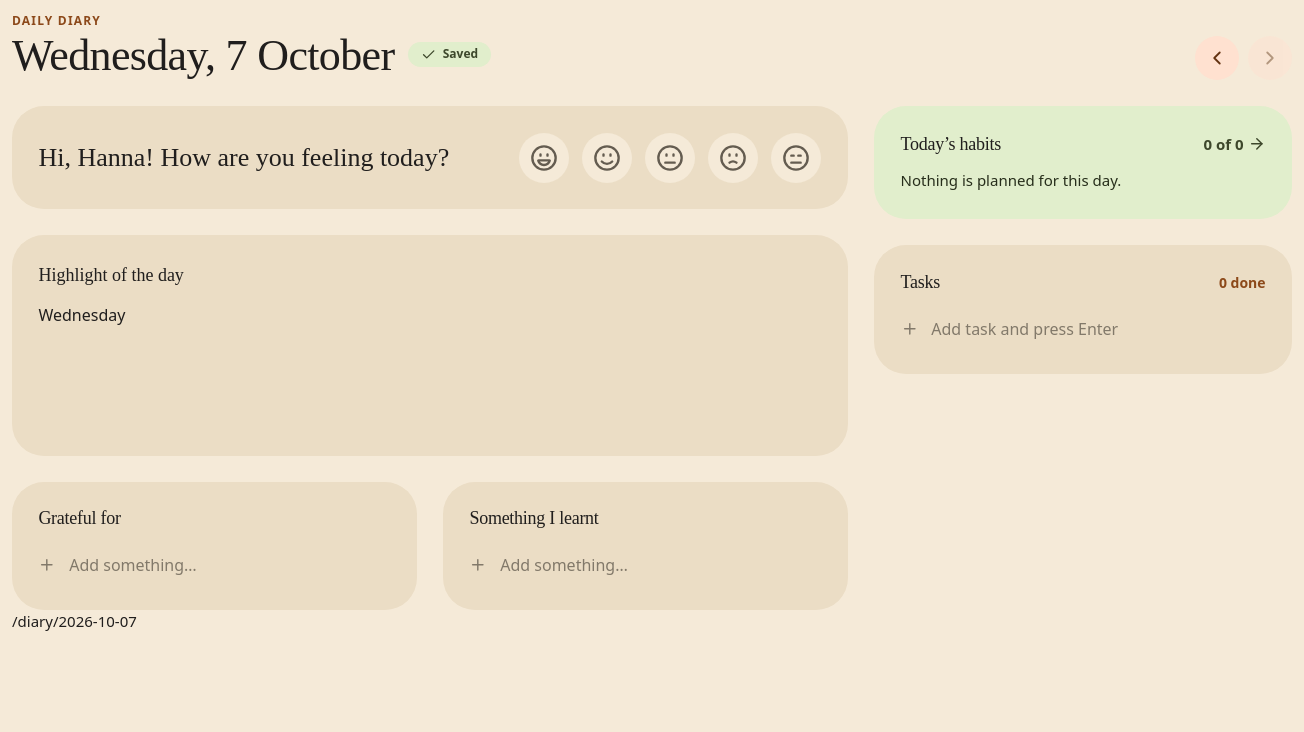
Test: moving between days › shows each day’s own text when going back and forth between days that are loaded already
The width and height of the screenshot is (1304, 732).
Expected: the text box labelled "Highlight of the day" holds "Wednesday", [38,303,821,423]
Click the button named "Previous day" at (1217, 58), box [1195,36,1239,80]
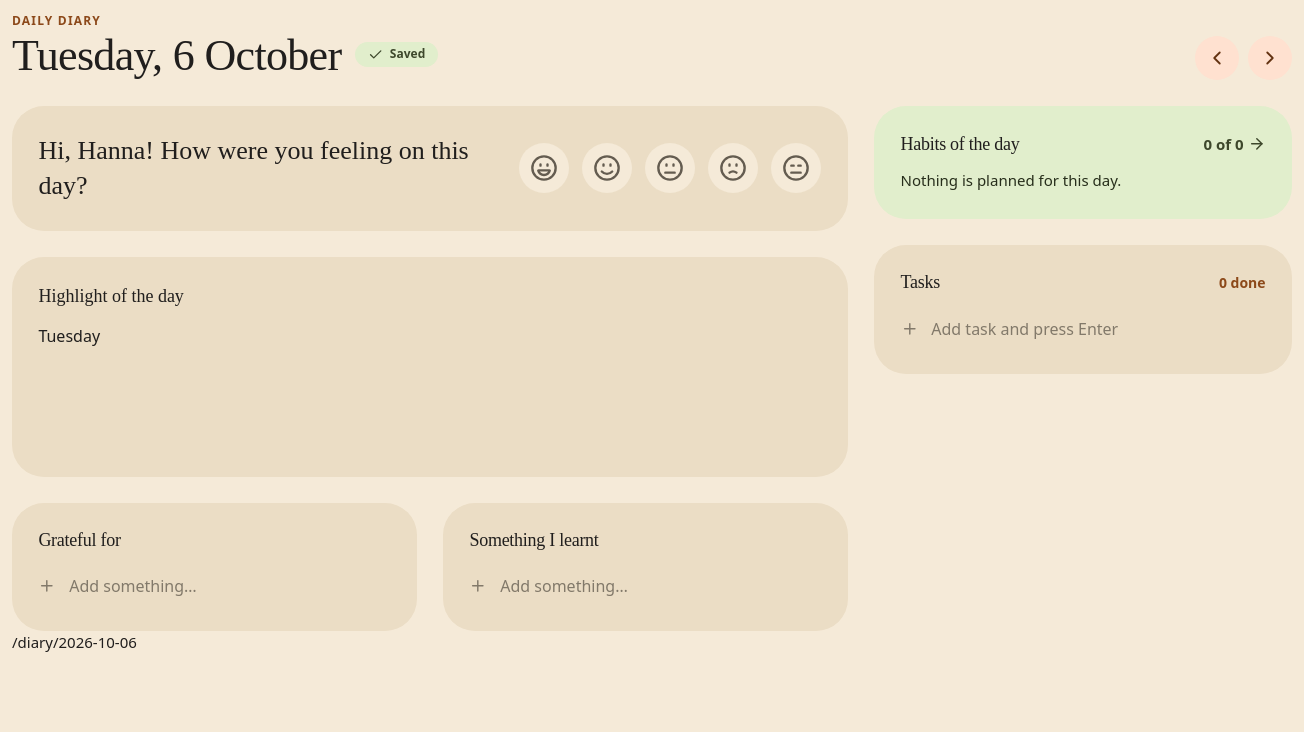
Expected: the text box labelled "Highlight of the day" holds "Tuesday", [38,324,821,444]
Note: Wednesday is in the cache now: its form opens at once, and must not be Tuesday's.
Click the button named "Next day" at (1270, 58), box [1248,36,1292,80]
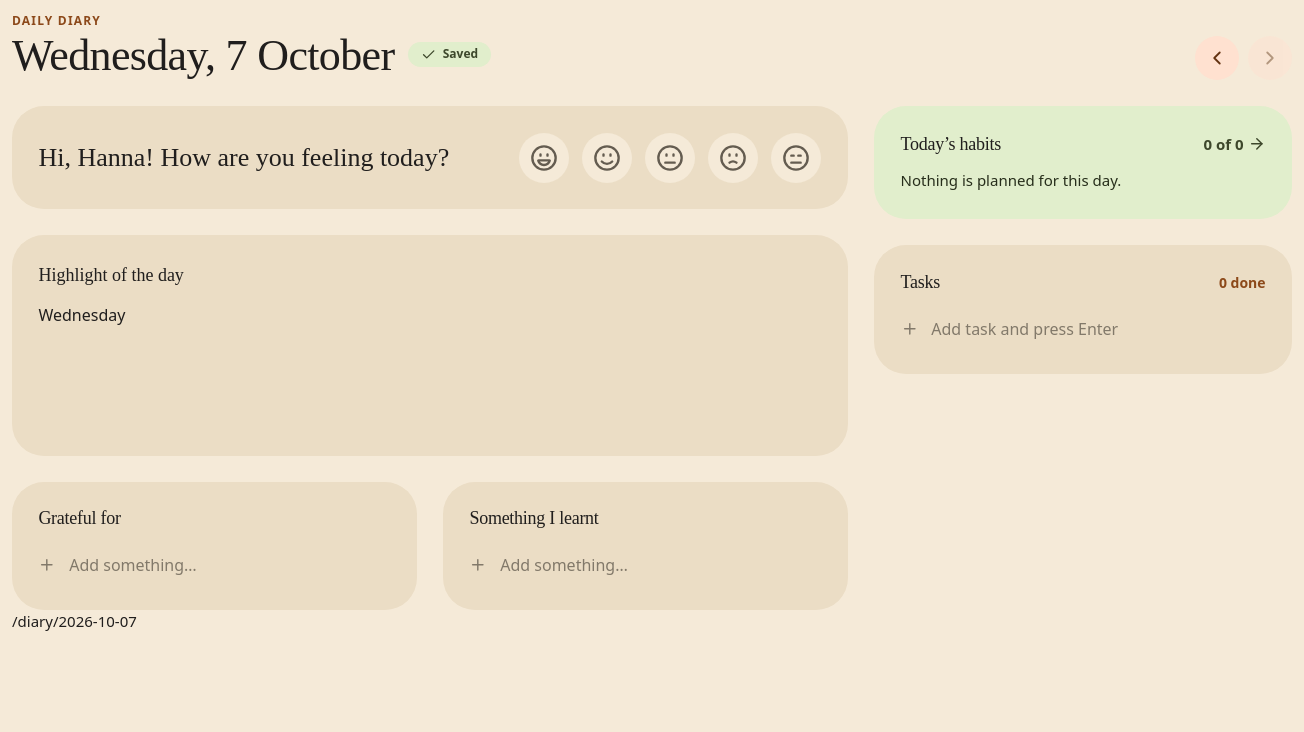
Expected: the text box labelled "Highlight of the day" holds "Wednesday", [38,303,821,423]
Expected: the heading "Wednesday, 7 October" is shown, [12,31,394,80]
